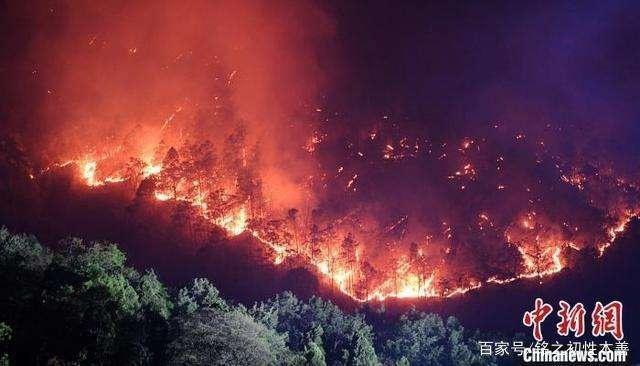fire: (46, 152, 256, 239), (264, 237, 362, 303), (369, 263, 559, 296)
